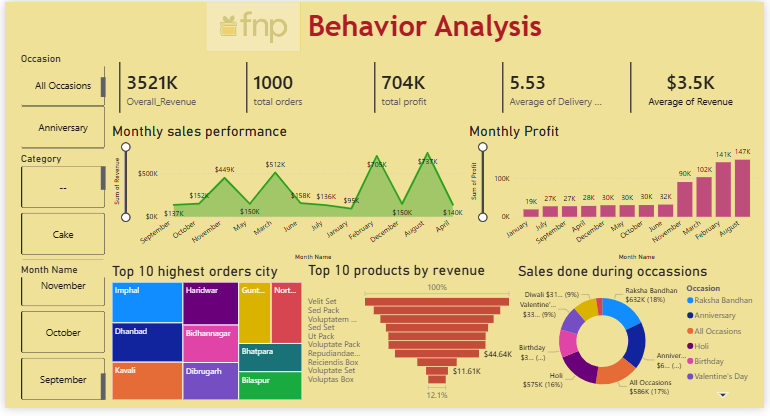

Layout of this report page (visuals, bound fields, positions):
{"tool":"powerbi","page":{"name":"Dashboard","canvas":[1264,677],"ordinal":0},"visuals":[{"type":"textbox","box":[433.3,6.7,518.3,68.3],"z":0},{"type":"image","box":[335,0,156.7,83.3],"z":1000},{"type":"cardVisual","fields":{"Data":["Orders.Overall_Revenue"]},"box":[173.3,83.3,220,118.3],"z":2000},{"type":"cardVisual","fields":{"Data":["Orders.total orders"]},"box":[385,83.3,213.3,118.3],"z":3000},{"type":"cardVisual","fields":{"Data":["Orders.total profit"]},"box":[598.3,83.3,213.3,118.3],"z":4000},{"type":"cardVisual","title":"geds","fields":{"Data":["Avg(Orders.Delivery Days)"]},"box":[811.7,83.3,213.3,118.3],"z":5000},{"type":"cardVisual","title":"Average spending","fields":{"Data":["Avg(Orders.Revenue)"]},"box":[1025,83.3,235,118.3],"z":6000},{"type":"lineChart","title":"Monthly sales performance","fields":{"Category":["Orders.Month Name"],"Y":["Sum(Orders.Revenue)"]},"box":[173.3,201.7,595,233.3],"z":7000},{"type":"funnel","title":"Top 10 products by revenue","fields":{"Category":["Products.Product_Name"],"Y":["Sum(Orders.Revenue)"]},"box":[500,433.3,350,235],"z":8000},{"type":"clusteredColumnChart","title":"Monthly Profit","fields":{"Category":["Orders.Month Name"],"Y":["Sum(Orders.Profit)"]},"box":[768.3,201.7,491.7,233.3],"z":9000},{"type":"donutChart","title":"Sales done during occassions","fields":{"Category":["Products.Occasion"],"Y":["Sum(Orders.Revenue)"]},"box":[850,435,410,233.3],"z":10000},{"type":"treemap","title":"Top 10 highest orders city","fields":{"Group":["Customers.City"],"Values":["CountNonNull(Orders.Order_ID)"]},"box":[173.3,435,326.7,233.3],"z":11000},{"type":"advancedSlicerVisual","fields":{"Values":["Products.Occasion"]},"box":[21.7,83.3,151.7,166.7],"z":12000},{"type":"advancedSlicerVisual","fields":{"Values":["Products.Category"]},"box":[21.7,250,151.7,185],"z":13000},{"type":"advancedSlicerVisual","fields":{"Values":["Orders.Month Name"]},"box":[22,435,151,233],"z":14000}]}

Visuals, with their boxes in screenshot pixels (x1, y1, x2, y2), scaled from the page's 1264x677 canvas onto the 770x416 screenshot:
textbox: crop(264, 4, 580, 46)
image: crop(204, 0, 300, 51)
cardVisual - Orders.Overall_Revenue: crop(106, 51, 240, 124)
cardVisual - Orders.total orders: crop(235, 51, 364, 124)
cardVisual - Orders.total profit: crop(364, 51, 494, 124)
"geds" cardVisual: crop(494, 51, 624, 124)
"Average spending" cardVisual: crop(624, 51, 768, 124)
"Monthly sales performance" lineChart: crop(106, 124, 468, 267)
"Top 10 products by revenue" funnel: crop(305, 266, 518, 411)
"Monthly Profit" clusteredColumnChart: crop(468, 124, 768, 267)
"Sales done during occassions" donutChart: crop(518, 267, 768, 411)
"Top 10 highest orders city" treemap: crop(106, 267, 305, 411)
advancedSlicerVisual - Products.Occasion: crop(13, 51, 106, 154)
advancedSlicerVisual - Products.Category: crop(13, 154, 106, 267)
advancedSlicerVisual - Orders.Month Name: crop(13, 267, 105, 410)
